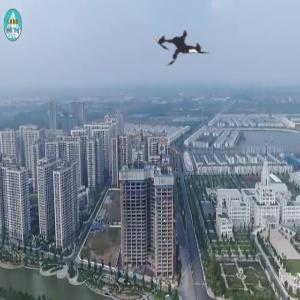drone: (139, 6, 228, 95)
